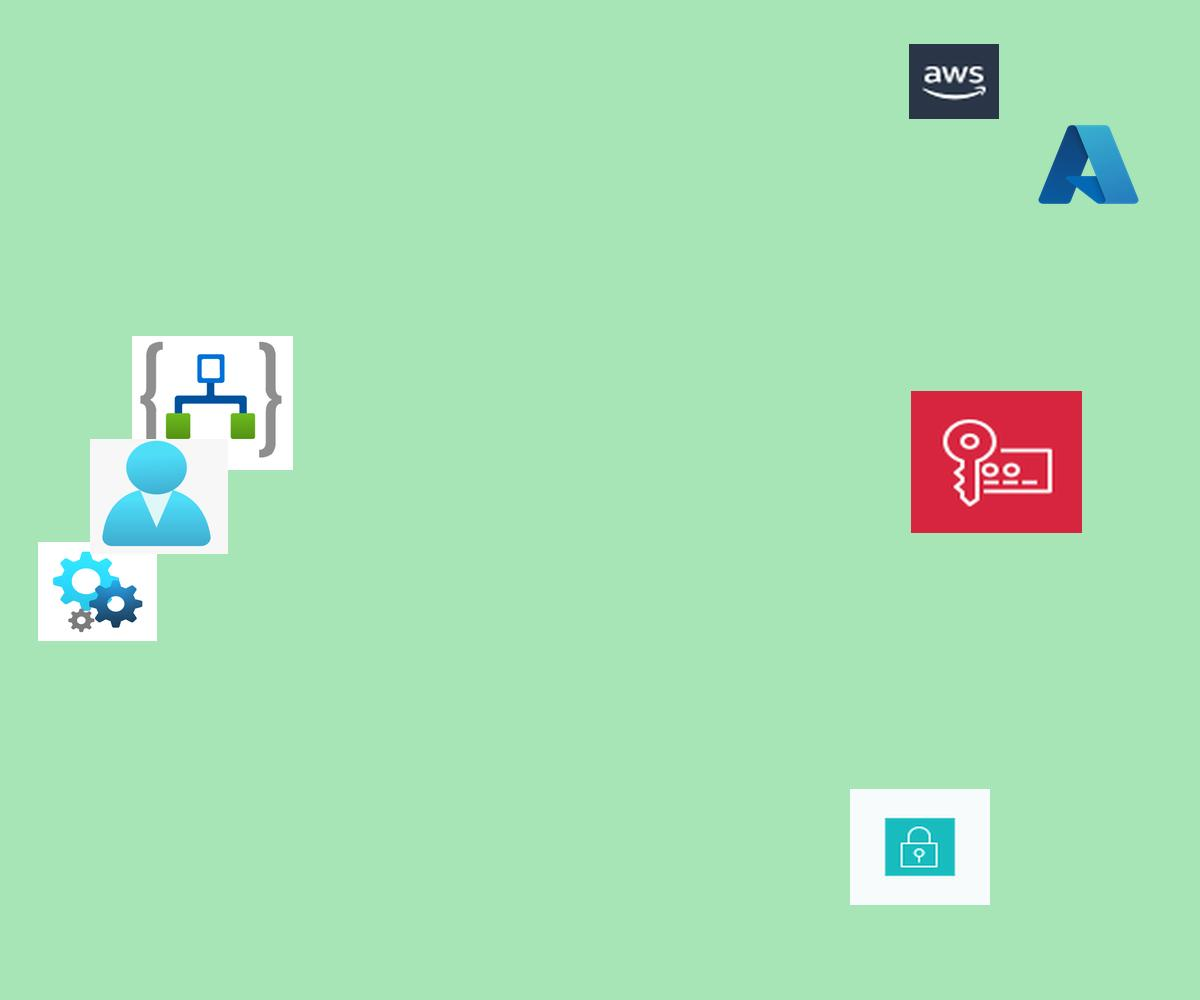AWS-Cloud-logo: (909, 44, 999, 119)
AWS-Key-Management-Service: (911, 391, 1082, 533)
AWS-Private-subnet: (850, 789, 990, 905)
Azure_api: (38, 542, 157, 641)
Azure_integration-204-Logic-Apps: (132, 336, 293, 470)
Azure_services: (1034, 119, 1143, 210)
Azure_users: (90, 439, 228, 554)
